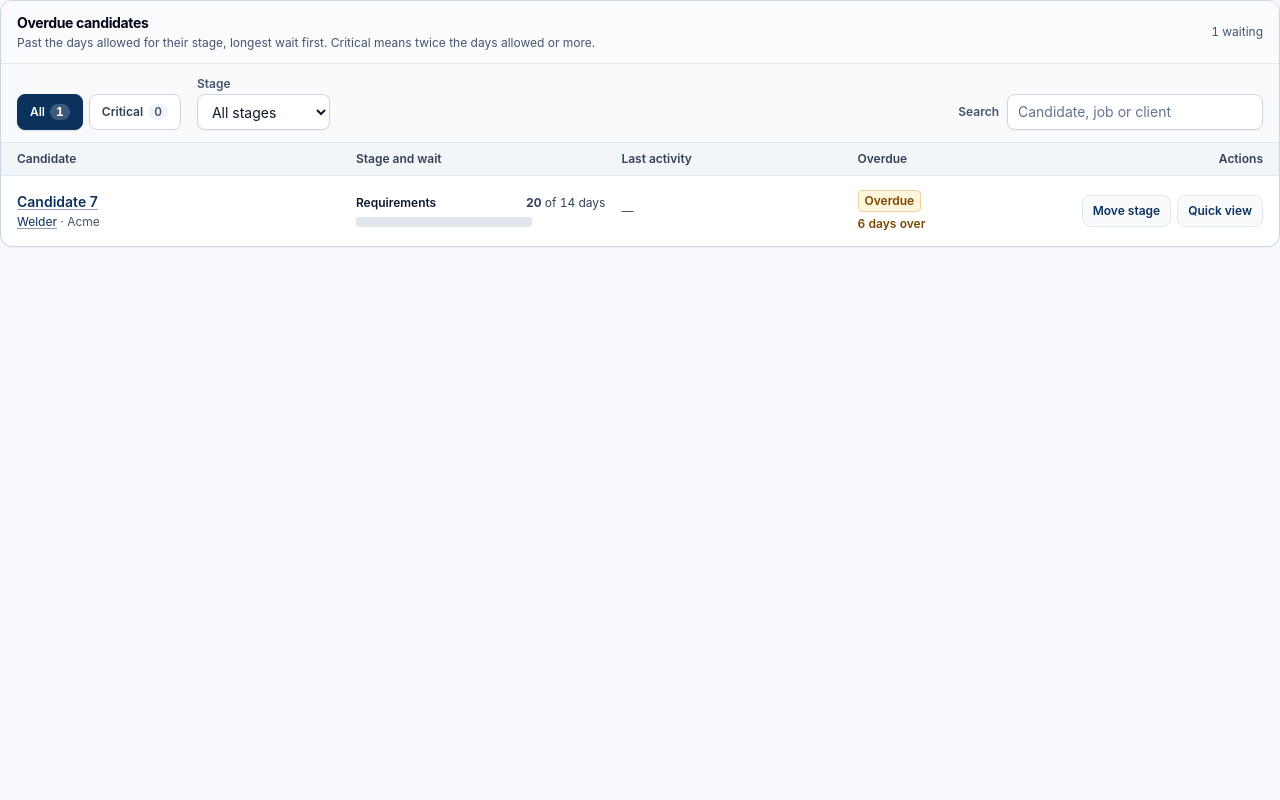
Test: admin lists › StuckList Quick view shows the candidate's contact details and match score from the record
The image size is (1280, 800).
Step 1. Click the button with aria-label "Quick view: Candidate 7" → (1220, 211), box x1=1177 y1=195 x2=1263 y2=227
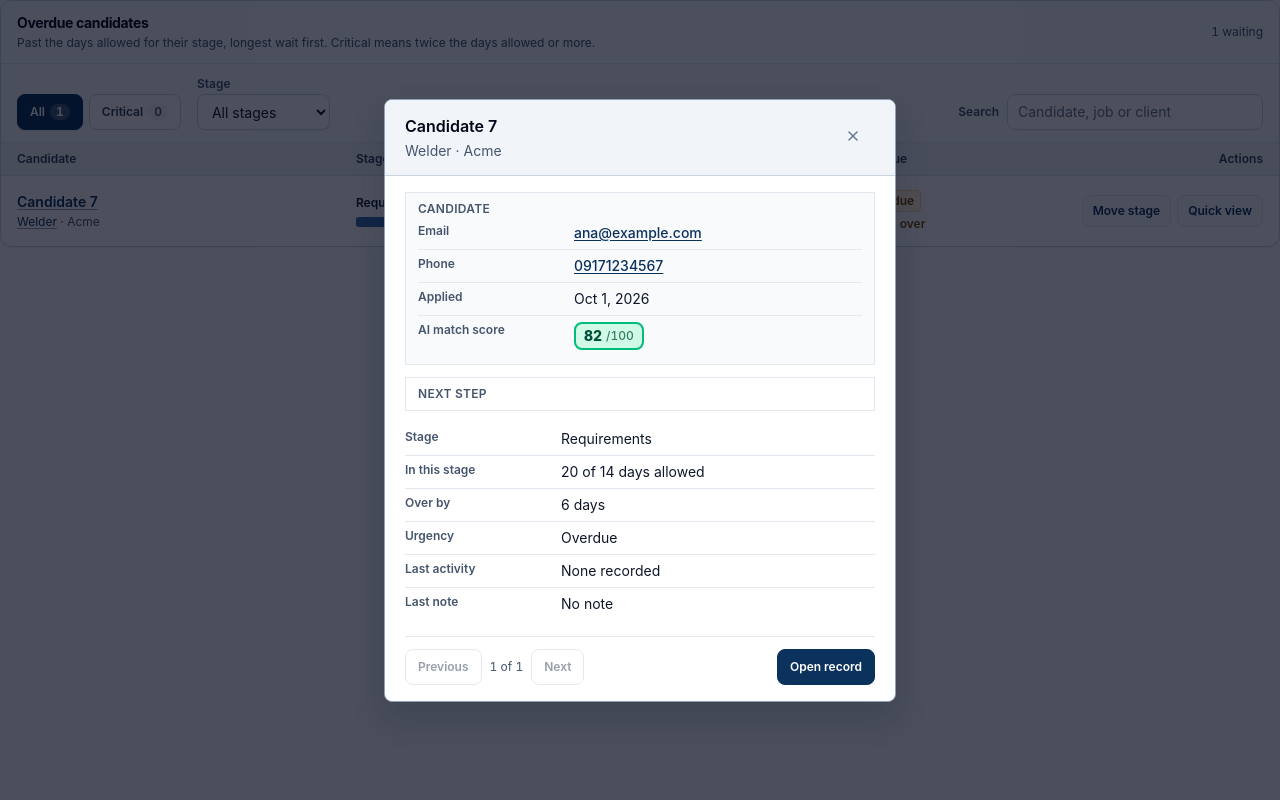
expect the text "82" is shown: met, box x1=584 y1=326 x2=602 y2=346
